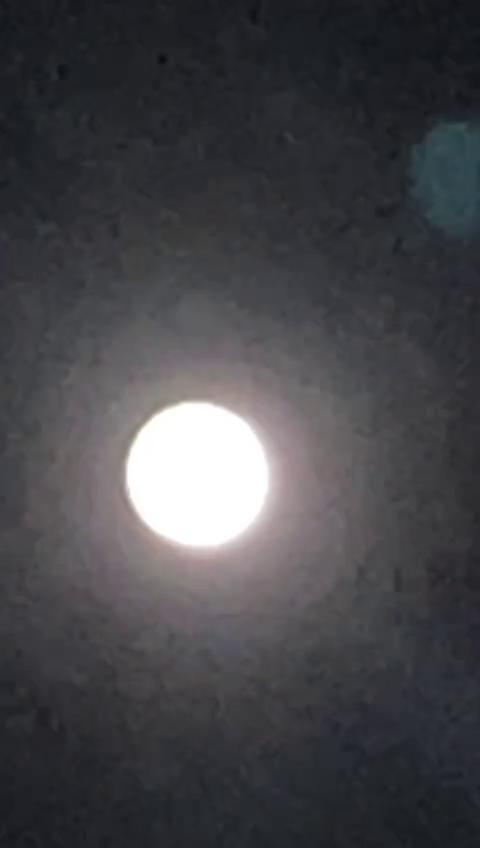moon: (111, 384, 278, 576)
